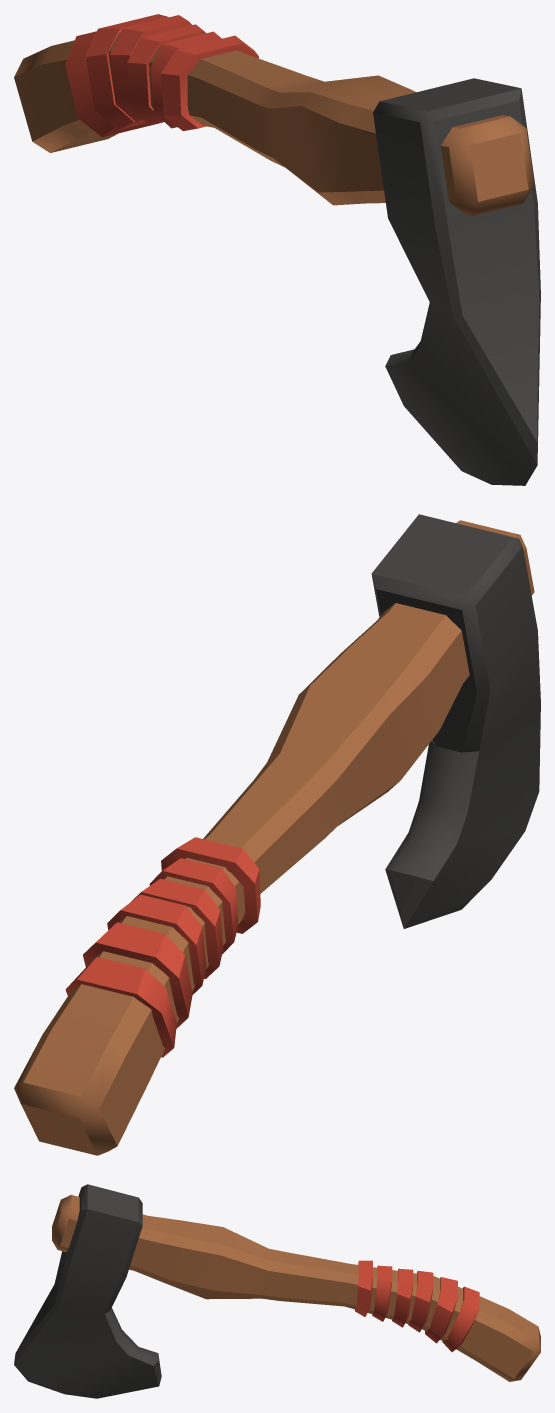
Rendered from Axe.fbx.
The picture shows the model from 3 angles, top to bottom: view 1: azimuth 30°, elevation 25°; view 2: azimuth 150°, elevation 25°; view 3: azimuth 270°, elevation 25°; orthographic projection. The views are drawn at different scales.
Parts seen in each view (by area): view 1: Axe; view 2: Axe; view 3: Axe.
Part boxes in pixels (bbox=[...]): Axe: bbox=[14, 14, 540, 485]; Axe: bbox=[14, 514, 540, 1155]; Axe: bbox=[14, 1184, 540, 1398].
Bounding box in the file's own units: 10.84 × 38.03 × 89.38.
